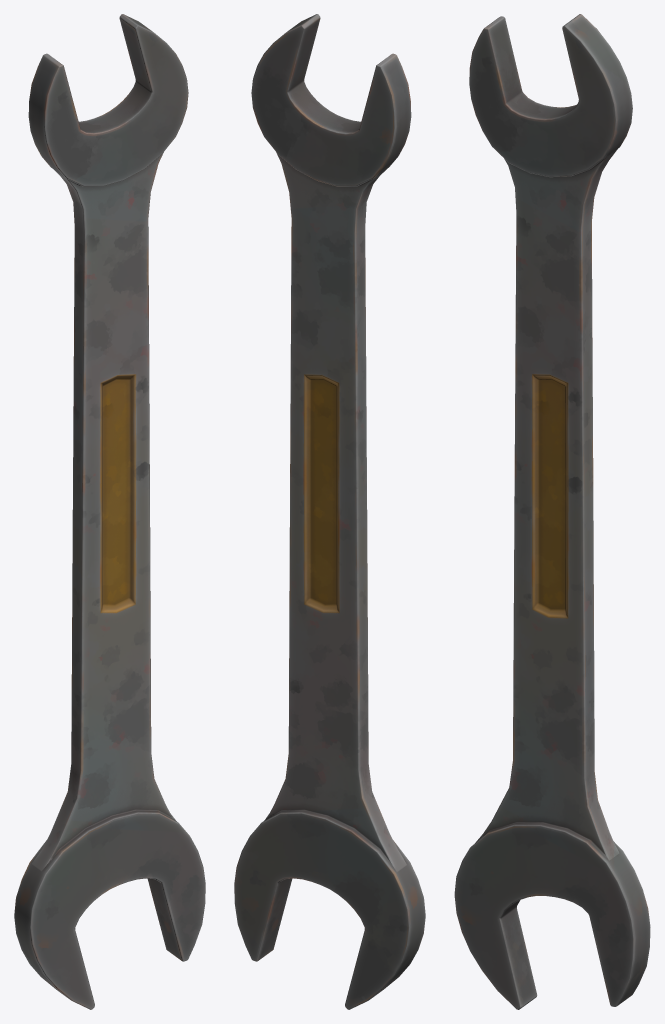
File: spanner.fbx
3 renders of one model, left to right at view 1: azimuth 30°, elevation 25°; view 2: azimuth 150°, elevation 25°; view 3: azimuth 330°, elevation 25°, orthographic. The views are drawn at different scales.
Visible parts, largest first — view 1: spanner_01_lod0; view 2: spanner_01_lod0; view 3: spanner_01_lod0.
Part boxes in pixels (x1=…): spanner_01_lod0: x1=14, y1=14, x2=205, y2=1009; spanner_01_lod0: x1=234, y1=14, x2=425, y2=1009; spanner_01_lod0: x1=454, y1=14, x2=650, y2=1009.
Bounding box in the file's own units: 7.96 × 42.03 × 1.31.
